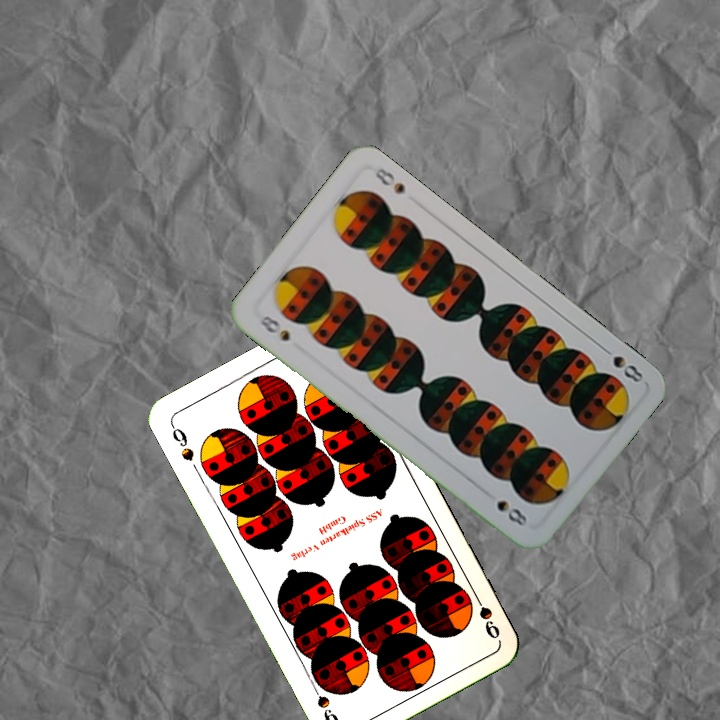S8: (596, 341, 646, 386), (255, 307, 293, 345)
S9: (468, 586, 503, 642), (166, 420, 197, 464)
